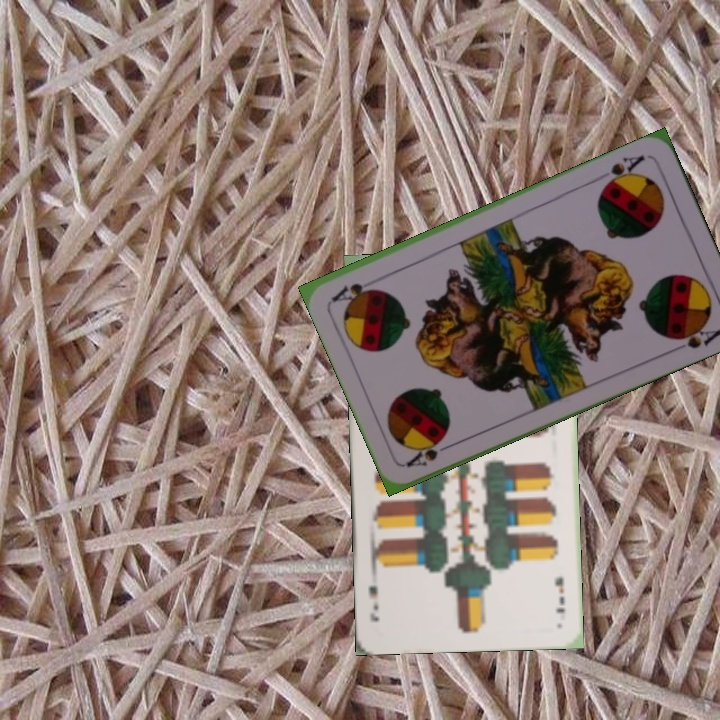E7: (551, 574, 567, 616)
SA: (402, 433, 458, 471), (598, 150, 648, 191)
